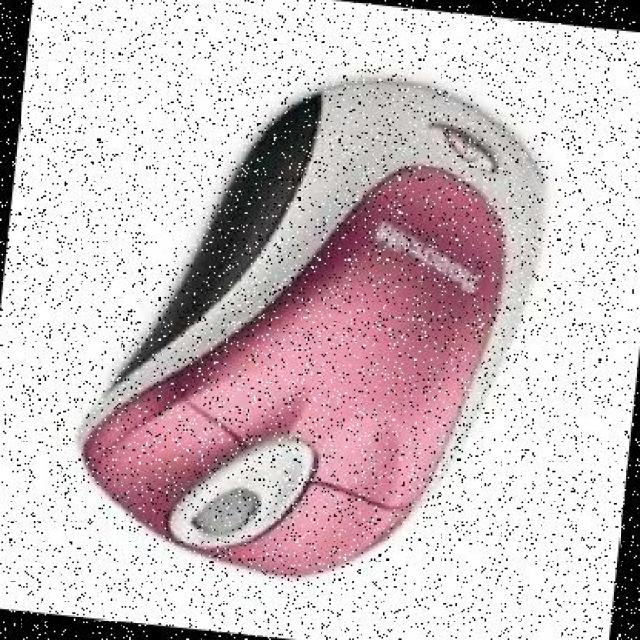mause: (52, 19, 592, 616)
